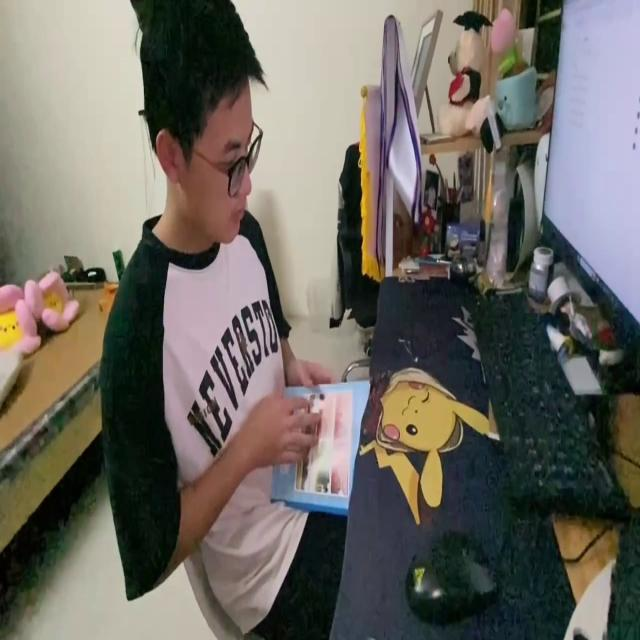book: (264, 374, 370, 516)
laptop: (539, 0, 640, 369)
student: (99, 0, 348, 634)
